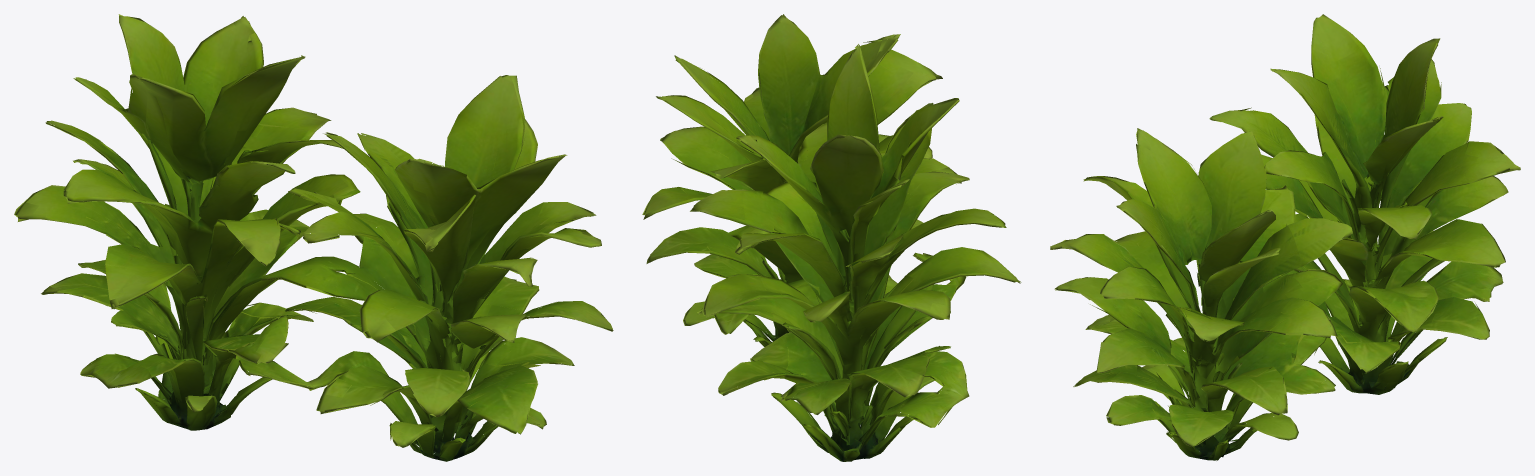
File: pack_universal.glb
3 renders of one model, left to right at view 1: azimuth 30°, elevation 25°; view 2: azimuth 150°, elevation 25°; view 3: azimuth 270°, elevation 25°, orthographic. The views are drawn at different scales.
Visible parts, largest first — view 1: pack_universal; view 2: pack_universal; view 3: pack_universal.
Boxes of the visible parts, <box> form: pack_universal: <box>14,14,613,461</box>; pack_universal: <box>642,14,1021,461</box>; pack_universal: <box>1050,14,1520,460</box>.
Size of the model in its own units: 0.9605 by 0.8072 by 1.
1 material, 1 textured.
